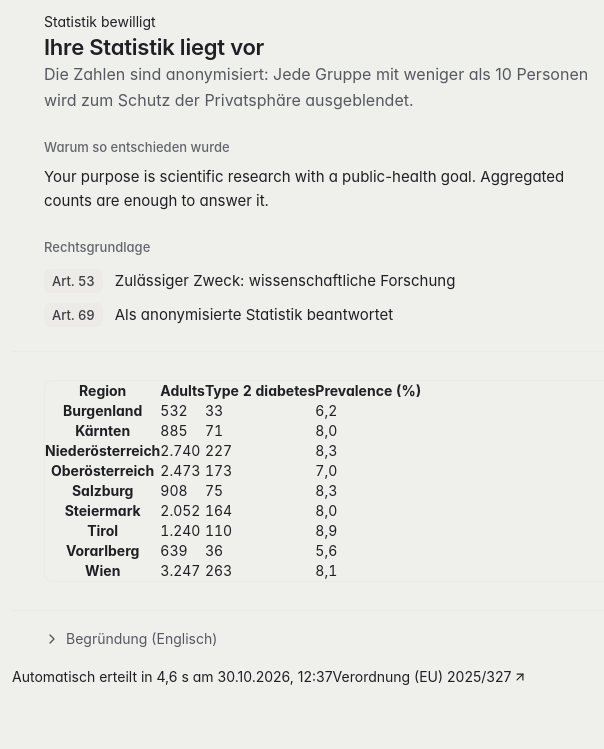
Test case: DecisionLetter in German: statistics › labels the reasoning disclosure as English and shows the API's English reason
Click the button "Begründung (Englisch)" at (131, 639), box [36,623,225,655]
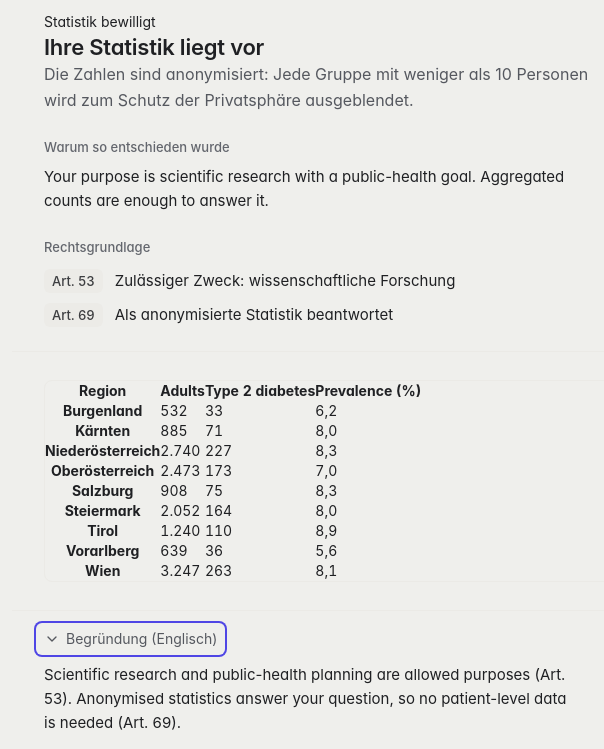
expect the text "Scientific research and public-health planning are allowed purposes (Art. 53). Anonymised statistics answer your questio" is shown: met, box [44,665,566,732]
